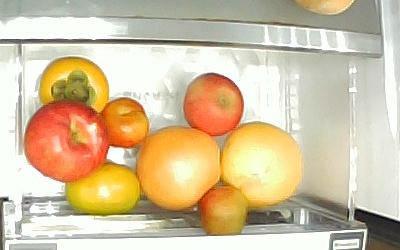apple: (22, 97, 110, 183), (182, 71, 244, 137)
grapefruit: (135, 124, 221, 211), (220, 120, 302, 207)
persimmon: (63, 159, 141, 214), (37, 55, 109, 114)
prune: (97, 96, 149, 148), (196, 182, 248, 234)
